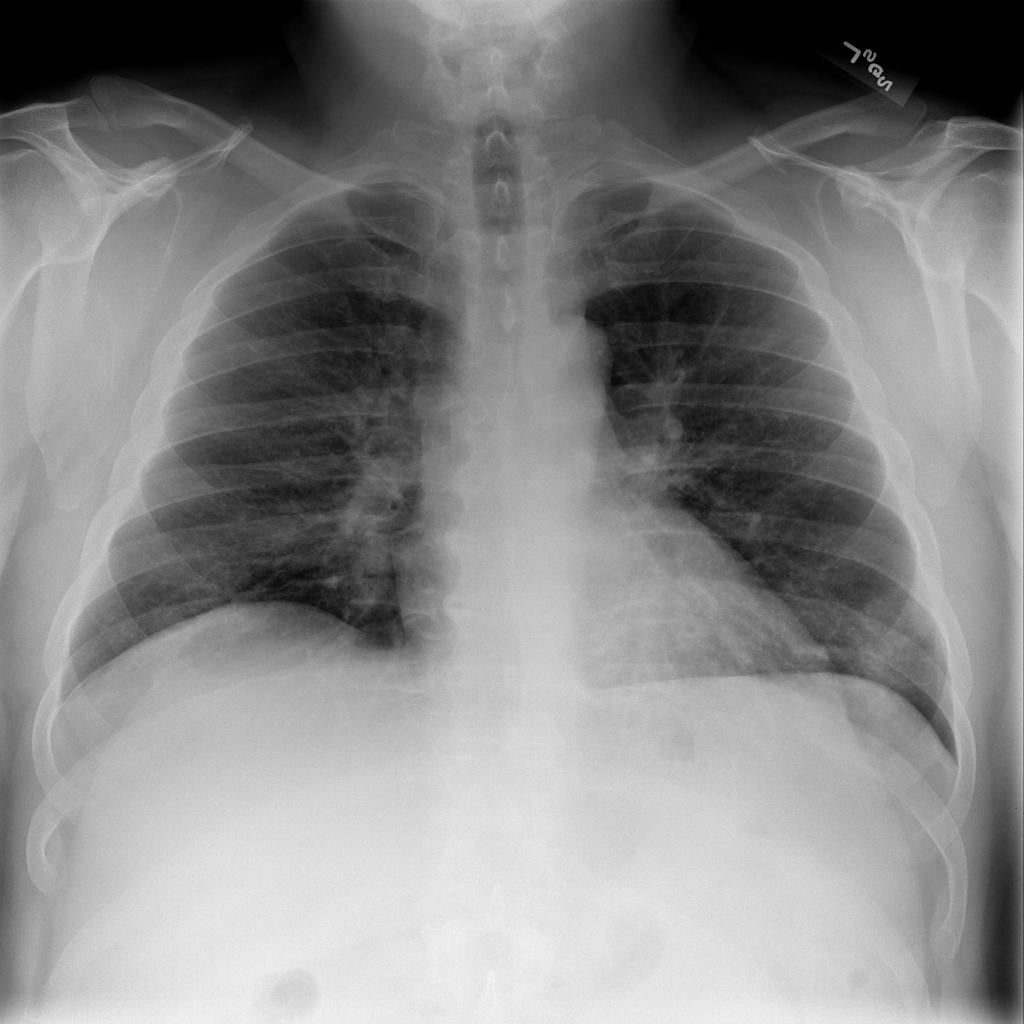nodule: (826, 578, 946, 701)
